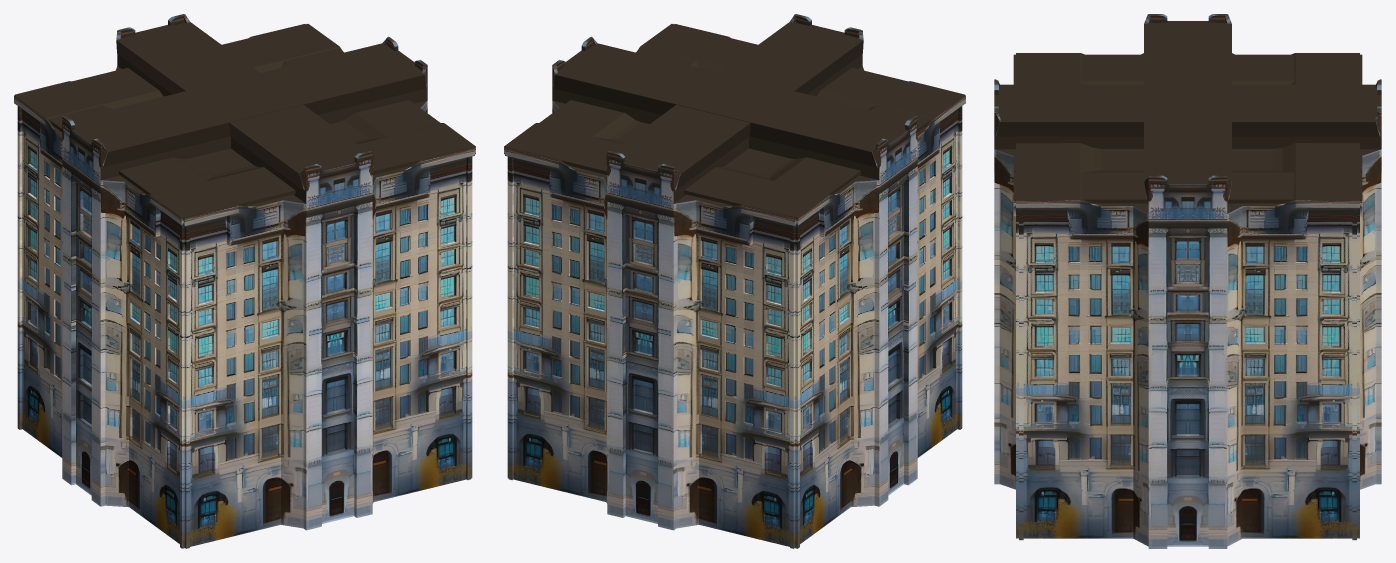
File: apartment_buildinghotel.glb
The picture shows the model from 3 angles, left to right: view 1: azimuth 30°, elevation 25°; view 2: azimuth 150°, elevation 25°; view 3: azimuth 270°, elevation 25°; orthographic projection. The views are drawn at different scales.
Visible parts, largest first — view 1: Firefly face of an apartment building directly facing the c. (×3); view 2: Firefly face of an apartment building directly facing the c. (×3); view 3: Firefly face of an apartment building directly facing the c. (×3).
Boxes of the visible parts, box(x1,y1,x2,y2) form: Firefly face of an apartment building directly facing the c. (×3): box(14, 14, 475, 548); Firefly face of an apartment building directly facing the c. (×3): box(504, 14, 965, 548); Firefly face of an apartment building directly facing the c. (×3): box(994, 14, 1381, 548).
Size of the model in its own units: 0.8622 by 0.9133 by 0.8622.
3 materials, 2 textured.
